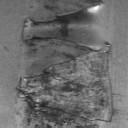slag inclusion: (14, 0, 124, 128), (30, 5, 34, 9)
